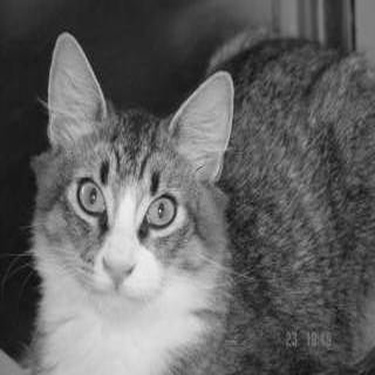cat: (5, 18, 354, 362)
